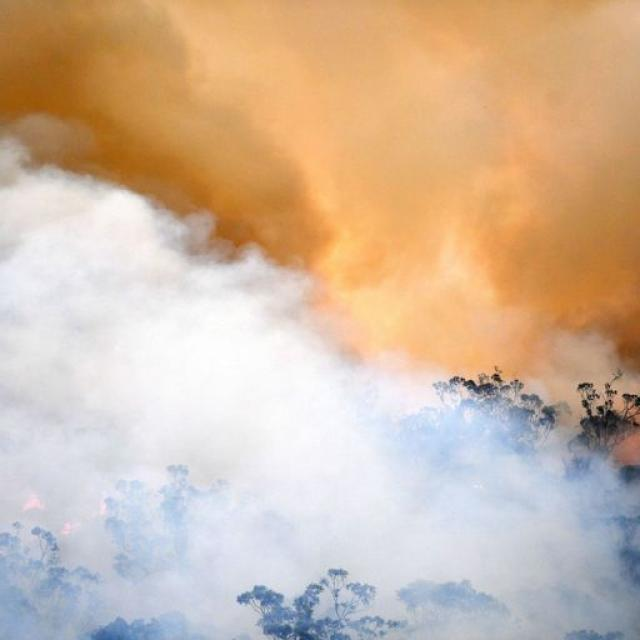Smoke: (292, 0, 639, 326), (287, 333, 636, 636), (3, 304, 284, 636), (0, 0, 290, 298)
